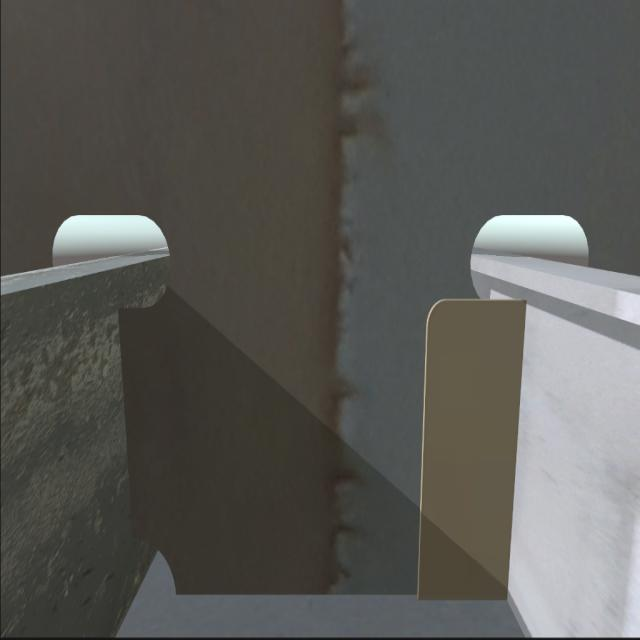fillet_hole: (135, 535, 177, 594)
fillet_yong_jeop_jang: (153, 585, 515, 601)
longi_yong_jeop_jang: (506, 293, 530, 606), (111, 303, 141, 536)
plate_CP05: (416, 297, 512, 604)
